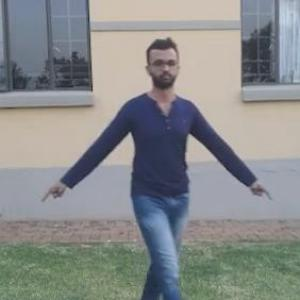land: (75, 51, 248, 299)
